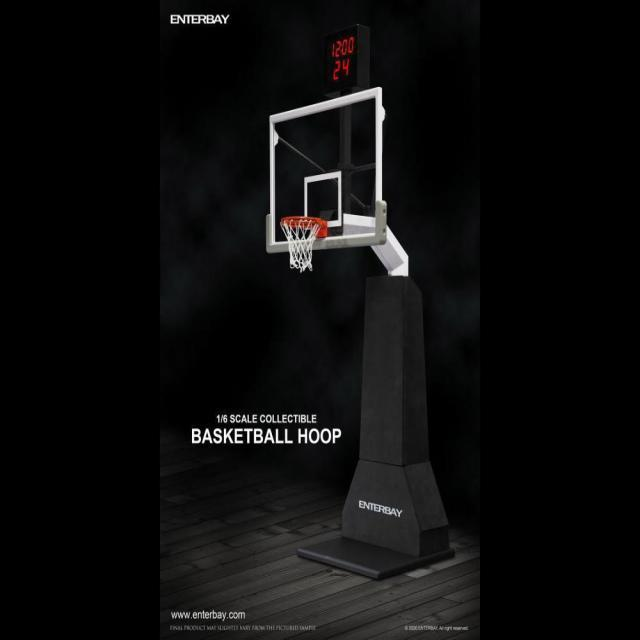hoop: (280, 216, 322, 272)
